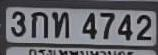2: (136, 14, 150, 39)
3: (10, 10, 25, 36)
4: (81, 12, 96, 38), (117, 13, 131, 39)
7: (99, 12, 114, 38)
A01: (30, 10, 47, 36)
A23: (51, 10, 68, 36)
